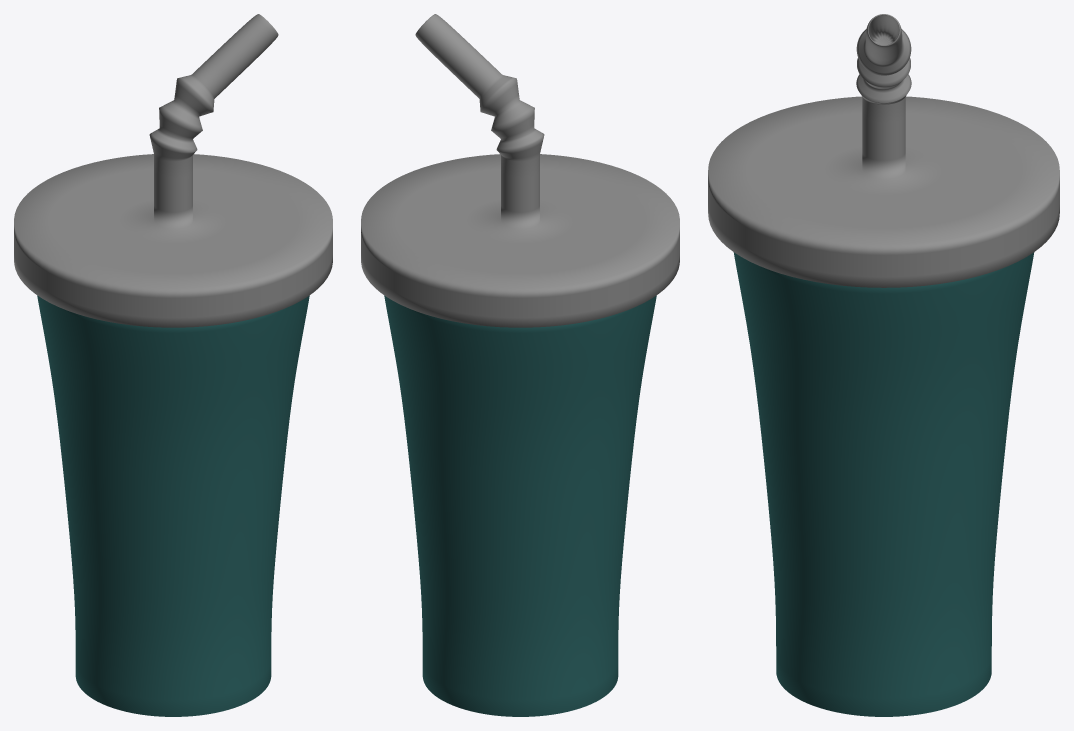
Rendered from Soda.fbx.
The picture shows the model from 3 angles, left to right: view 1: azimuth 30°, elevation 25°; view 2: azimuth 150°, elevation 25°; view 3: azimuth 270°, elevation 25°; orthographic projection. The views are drawn at different scales.
Parts seen in each view (by area): view 1: pCylinder1; view 2: pCylinder1; view 3: pCylinder1.
Part boxes in pixels (x1,y1,x2,y2): pCylinder1: [14, 14, 332, 716]; pCylinder1: [361, 14, 679, 716]; pCylinder1: [708, 14, 1059, 716].
Bounding box in the file's own units: 3.37 × 7.46 × 3.37.
